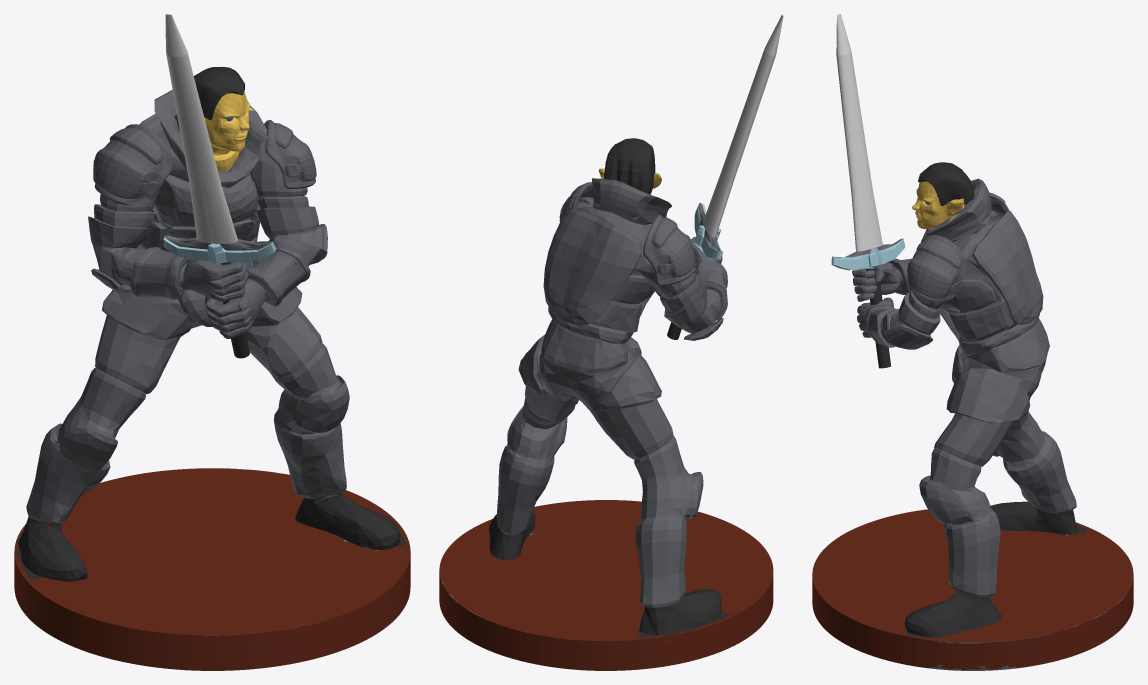
File: Kellam2.fbx
The picture shows the model from 3 angles, left to right: view 1: azimuth 30°, elevation 25°; view 2: azimuth 150°, elevation 25°; view 3: azimuth 270°, elevation 25°; orthographic projection. The views are drawn at different scales.
Parts seen in each view (by area): view 1: Half Elf Great Weapon Fighter; view 2: Half Elf Great Weapon Fighter; view 3: Half Elf Great Weapon Fighter.
Boxes of the visible parts, x1=… form: Half Elf Great Weapon Fighter: x1=14, y1=14, x2=410, y2=670; Half Elf Great Weapon Fighter: x1=439, y1=14, x2=783, y2=670; Half Elf Great Weapon Fighter: x1=812, y1=14, x2=1133, y2=670.
Bounding box in the file's own units: 2524 × 4674 × 2524.
